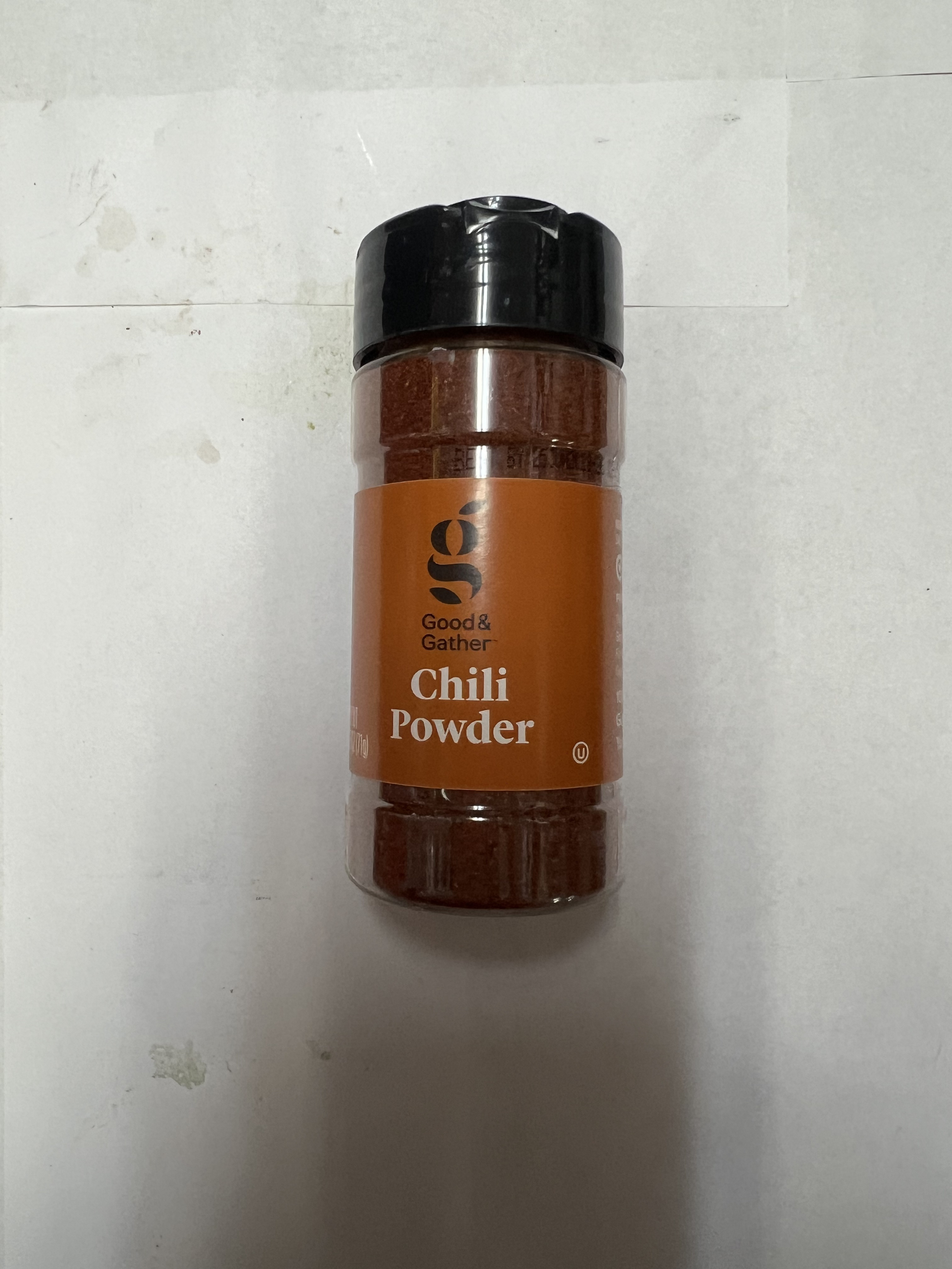packaged: (345, 187, 635, 922)
